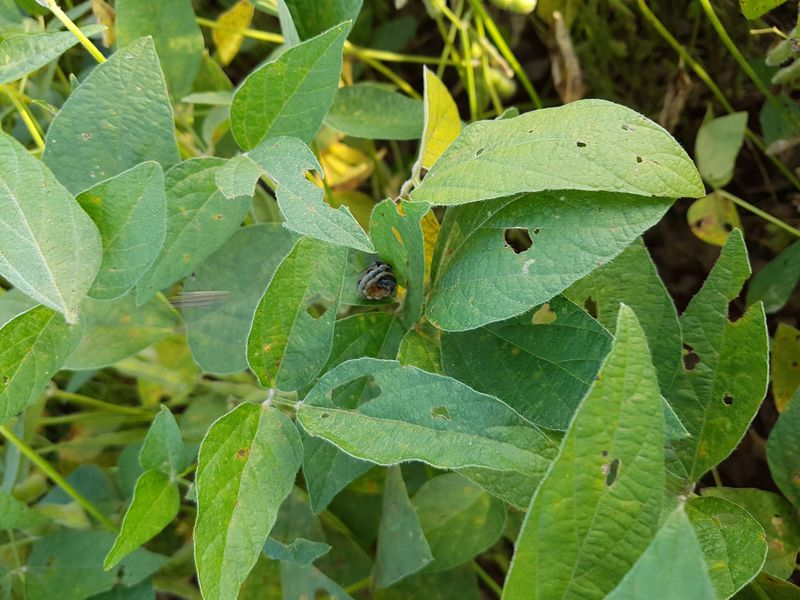Spodoptera_albula: (342, 246, 411, 316)
